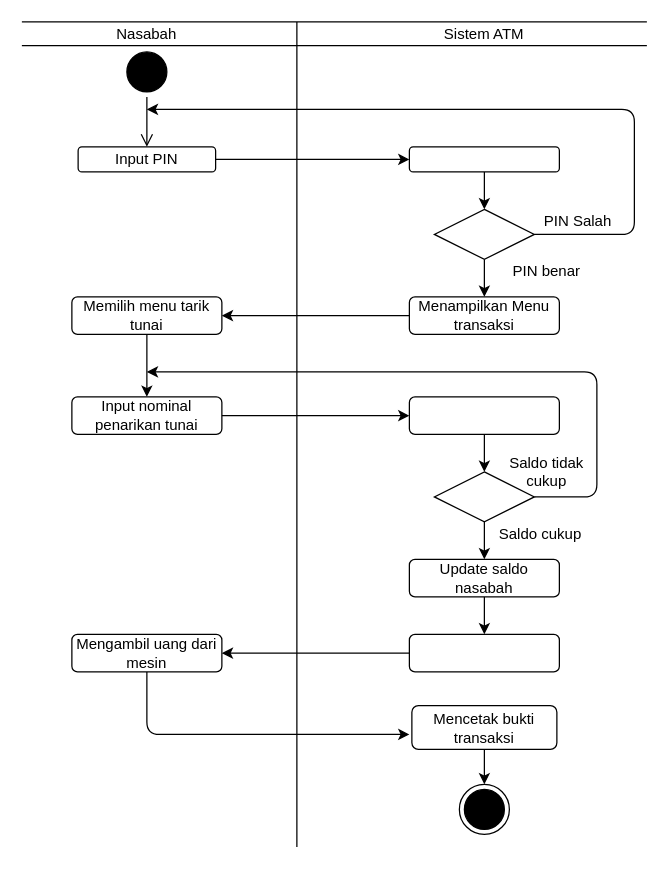
Image size: 670x870. Some labels were removed from this diagram. Each missing label, with the box of its shape:
Keluarkan uang: (408, 633, 559, 672)
Pengecekan saldo: (408, 396, 559, 434)
Verifikasi PIN: (408, 146, 559, 172)
